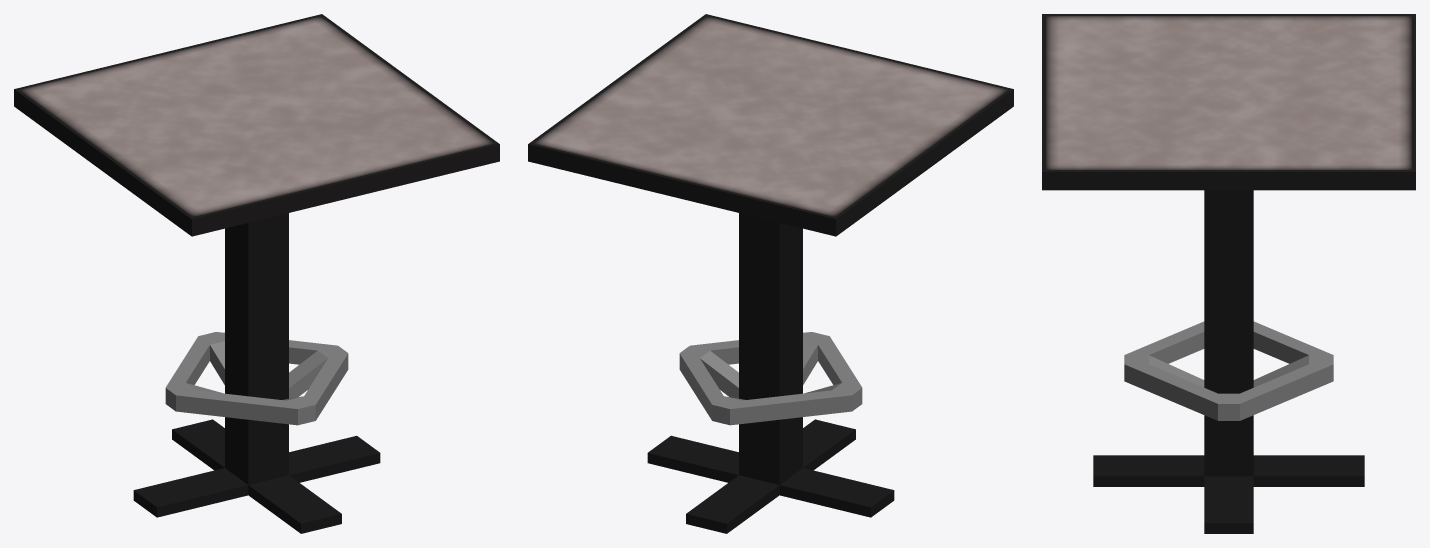
The model's file is HighTable.fbx.
3 views of the same model, side by side, from view 1: azimuth 30°, elevation 25°; view 2: azimuth 150°, elevation 25°; view 3: azimuth 270°, elevation 25° (orthographic). The views are drawn at different scales.
Parts seen in each view (by area): view 1: Table.019; view 2: Table.019; view 3: Table.019.
Boxes of the visible parts, left/top/right/bottom form: Table.019: left=14, top=14, right=499, bottom=533; Table.019: left=528, top=14, right=1013, bottom=533; Table.019: left=1042, top=14, right=1415, bottom=533.
Size of the model in its own units: 149 by 169 by 149.
